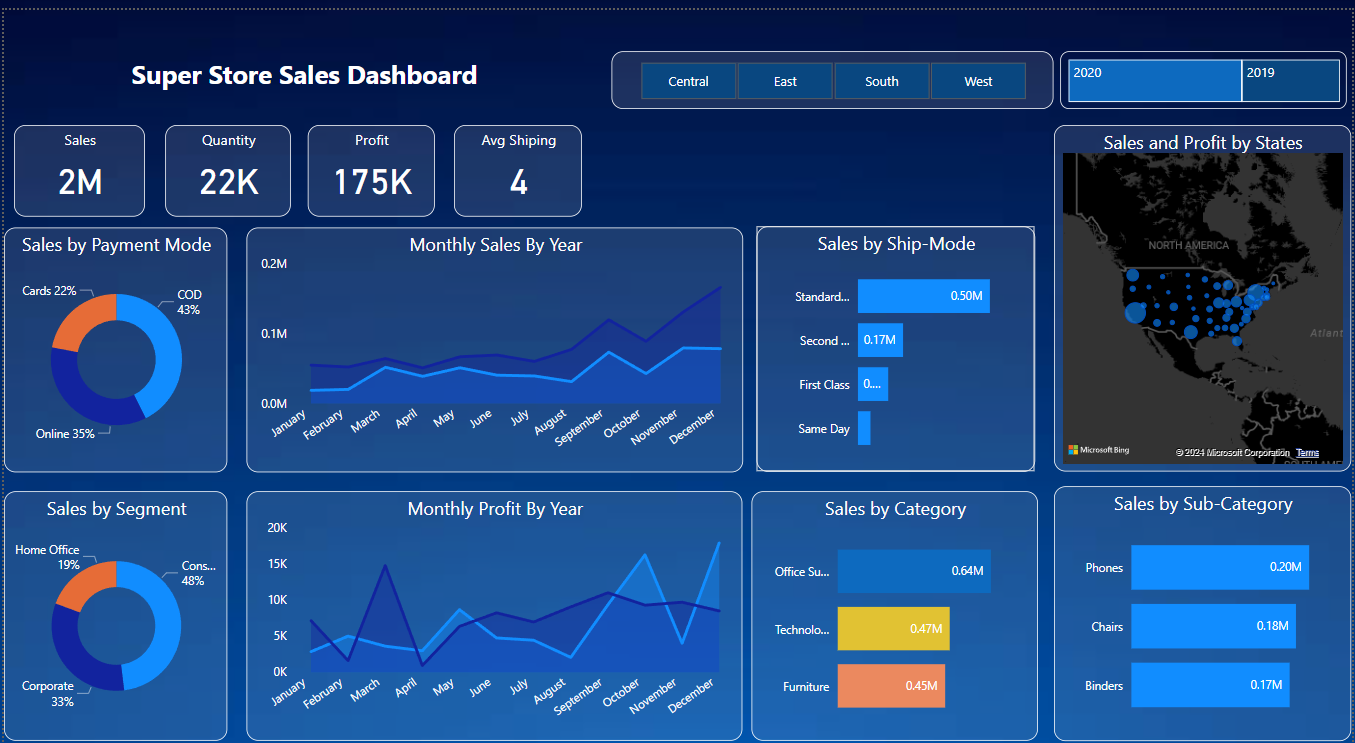

What the dashboard file says about the page in this screenshot:
{"tool":"powerbi","page":{"name":"Page 1","canvas":[1400,800],"ordinal":0},"visuals":[{"type":"textbox","box":[38,43.5,548.9,48.9],"z":0},{"type":"clusteredBarChart","title":"Sales by Category","fields":{"Category":["SuperStore_Sales_Dataset.Category"],"Y":["Sum(SuperStore_Sales_Dataset.Sales)"]},"box":[777.2,500,297.6,259.5],"z":1},{"type":"clusteredBarChart","title":"Sales by Sub-Category","fields":{"Category":["SuperStore_Sales_Dataset.Sub-Category"],"Y":["Sum(SuperStore_Sales_Dataset.Sales)"]},"box":[1091,494.6,308.4,264.9],"z":2},{"type":"clusteredBarChart","title":"Sales by Ship-Mode","fields":{"Category":["SuperStore_Sales_Dataset.Ship Mode"],"Y":["Sum(SuperStore_Sales_Dataset.Sales)"]},"box":[781.3,224.2,289.4,255.4],"z":3},{"type":"areaChart","title":"Monthly Sales By Year","fields":{"Category":["SuperStore_Sales_Dataset.Order Date.Variation.Date Hierarchy.Month"],"Y":["Sum(SuperStore_Sales_Dataset.Sales)"],"Series":["SuperStore_Sales_Dataset.Order Date.Variation.Date Hierarchy.Year"]},"box":[251.4,225.5,516.3,254.1],"z":4},{"type":"treemap","fields":{"Group":["SuperStore_Sales_Dataset.Order Date.Variation.Date Hierarchy.Year"],"Values":["Sum(SuperStore_Sales_Dataset.Sales)"]},"box":[1097.8,43.5,297.6,59.8],"z":5},{"type":"areaChart","title":"Monthly Profit By Year","fields":{"Category":["SuperStore_Sales_Dataset.Order Date.Variation.Date Hierarchy.Month"],"Y":["Sum(SuperStore_Sales_Dataset.Profit)"],"Series":["SuperStore_Sales_Dataset.Order Date.Variation.Date Hierarchy.Year"]},"box":[251.4,500,514.9,259.5],"z":6},{"type":"map","title":"Sales and Profit by States","fields":{"Category":["SuperStore_Sales_Dataset.State"],"Size":["Sum(SuperStore_Sales_Dataset.Sales)"]},"box":[1091,119.6,308.4,360.1],"z":7},{"type":"donutChart","title":"Sales by Segment","fields":{"Y":["Sum(SuperStore_Sales_Dataset.Sales)"],"Category":["SuperStore_Sales_Dataset.Segment"]},"box":[0,500,232.3,259.5],"z":9},{"type":"donutChart","title":"Sales by Payment Mode","fields":{"Y":["Sum(SuperStore_Sales_Dataset.Sales)"],"Category":["SuperStore_Sales_Dataset.Payment Mode"]},"box":[0,225.5,232.3,254.1],"z":10},{"type":"slicer","fields":{"Values":["SuperStore_Sales_Dataset.Region"]},"box":[631.8,43.5,459.2,59.8],"z":11},{"type":"card","title":"Sales","fields":{"Values":["Sum(SuperStore_Sales_Dataset.Sales)"]},"box":[10.9,119.6,135.9,95.1],"z":12},{"type":"card","title":"Quantity","fields":{"Values":["Sum(SuperStore_Sales_Dataset.Quantity)"]},"box":[167.1,119.6,130.4,95.1],"z":13},{"type":"card","title":"Profit","fields":{"Values":["Sum(SuperStore_Sales_Dataset.Profit)"]},"box":[315.2,119.6,131.8,95.1],"z":14},{"type":"card","title":"Avg Shiping","fields":{"Values":["Avg(SuperStore_Sales_Dataset.Ship_days)"]},"box":[467.4,119.6,133.2,95.1],"z":15}]}

Visuals, with their boxes on the page's 1400x800 design canvas (x1, y1, x2, y2). These are canvas units, not pixel positions in the 1355x743 screenshot, which may show the page scaled, cropped or inside an application window:
textbox: crop(38, 44, 587, 92)
"Sales by Category" clusteredBarChart: crop(777, 500, 1075, 760)
"Sales by Sub-Category" clusteredBarChart: crop(1091, 495, 1399, 760)
"Sales by Ship-Mode" clusteredBarChart: crop(781, 224, 1071, 480)
"Monthly Sales By Year" areaChart: crop(251, 226, 768, 480)
treemap - SuperStore_Sales_Dataset.Order Date.Variation.Date Hierarchy.Year x Sum(SuperStore_Sales_Dataset.Sales): crop(1098, 44, 1395, 103)
"Monthly Profit By Year" areaChart: crop(251, 500, 766, 760)
"Sales and Profit by States" map: crop(1091, 120, 1399, 480)
"Sales by Segment" donutChart: crop(0, 500, 232, 760)
"Sales by Payment Mode" donutChart: crop(0, 226, 232, 480)
slicer - SuperStore_Sales_Dataset.Region: crop(632, 44, 1091, 103)
"Sales" card: crop(11, 120, 147, 215)
"Quantity" card: crop(167, 120, 298, 215)
"Profit" card: crop(315, 120, 447, 215)
"Avg Shiping" card: crop(467, 120, 601, 215)
